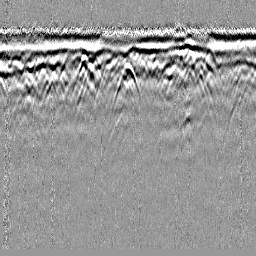cavity: (112, 60, 142, 110)
